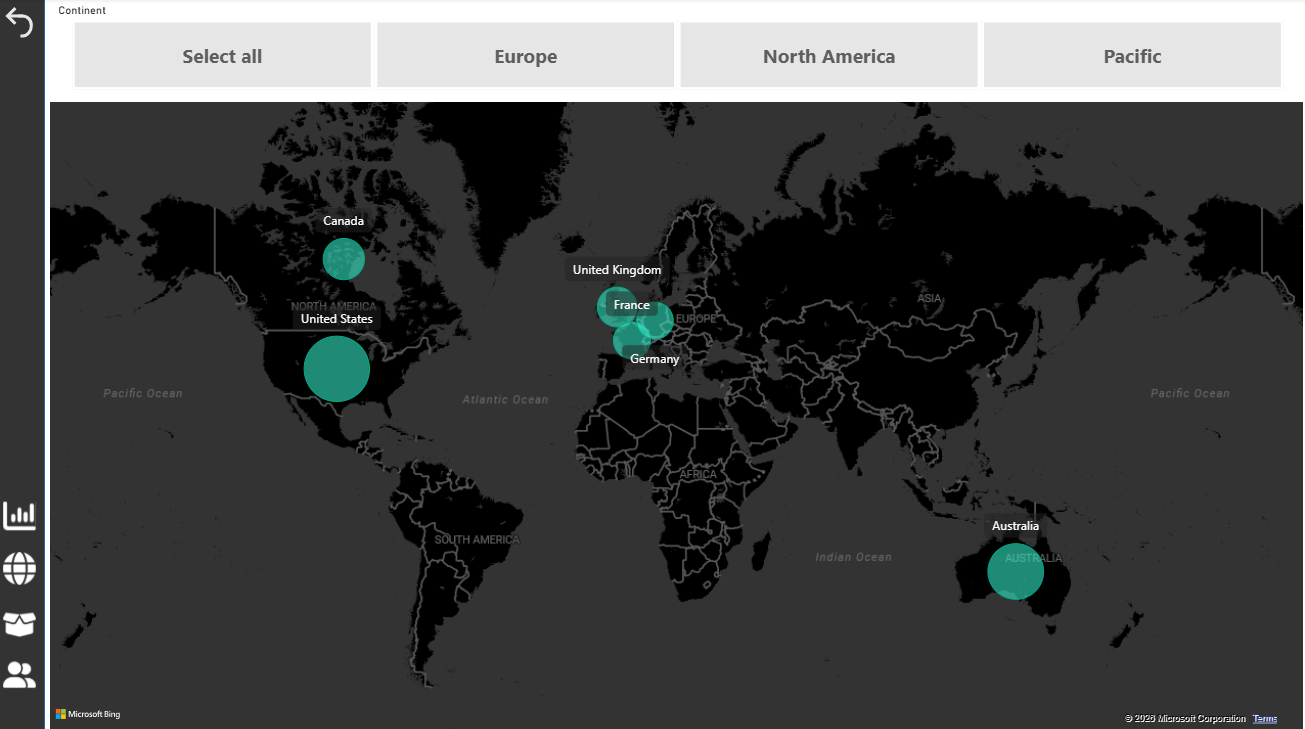

The page's visual inventory and layout, read from the dashboard file:
{"tool":"powerbi","page":{"name":"Maps","canvas":[1280,720],"ordinal":1},"visuals":[{"type":"shape","box":[0,0,45,720],"z":0},{"type":"map","fields":{"Category":["Territory Lookup.Country"],"Size":["Measure Table.Total Orders"]},"box":[45.2,96.6,1235.1,623.6],"z":1000},{"type":"slicer","fields":{"Values":["Territory Lookup.Continent Hierarchy.Continent"]},"box":[45,0,1235.1,96.6],"z":2000},{"type":"actionButton","box":[0,486.2,45,40],"z":3000},{"type":"actionButton","box":[0,537.5,45,40],"z":4000},{"type":"actionButton","box":[0,592.5,45,40],"z":5000},{"type":"actionButton","box":[0,642.5,45,40],"z":6000},{"type":"actionButton","box":[0,3.8,45,40],"z":7000}]}

Visuals, with their boxes on the page's 1280x720 design canvas (x1, y1, x2, y2). These are canvas units, not pixel positions in the 1305x729 screenshot, which may show the page scaled, cropped or inside an application window:
shape: (0,0,45,720)
map - Territory Lookup.Country x Measure Table.Total Orders: (45,97,1280,720)
slicer - Territory Lookup.Continent Hierarchy.Continent: (45,0,1280,97)
actionButton: (0,486,45,526)
actionButton: (0,538,45,578)
actionButton: (0,592,45,632)
actionButton: (0,642,45,682)
actionButton: (0,4,45,44)
